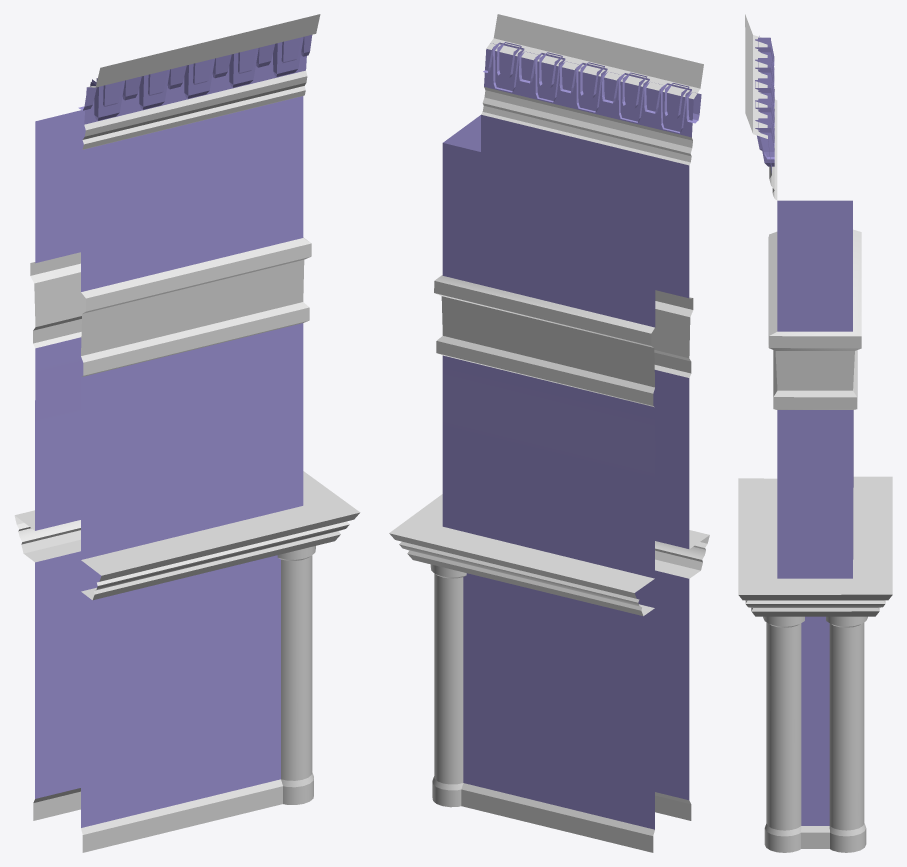
Rendered from Wall End Left.fbx.
The picture shows the model from 3 angles, left to right: view 1: azimuth 30°, elevation 25°; view 2: azimuth 150°, elevation 25°; view 3: azimuth 270°, elevation 25°; orthographic projection. The views are drawn at different scales.
Parts seen in each view (by area): view 1: Wall End Left_LOD0; view 2: Wall End Left_LOD0; view 3: Wall End Left_LOD0.
Boxes of the visible parts, x1=… form: Wall End Left_LOD0: x1=14, y1=14, x2=360, y2=852; Wall End Left_LOD0: x1=389, y1=14, x2=709, y2=852; Wall End Left_LOD0: x1=738, y1=14, x2=892, y2=852.
Size of what is drawn, in the model's own units: 292 by 844 by 161.
